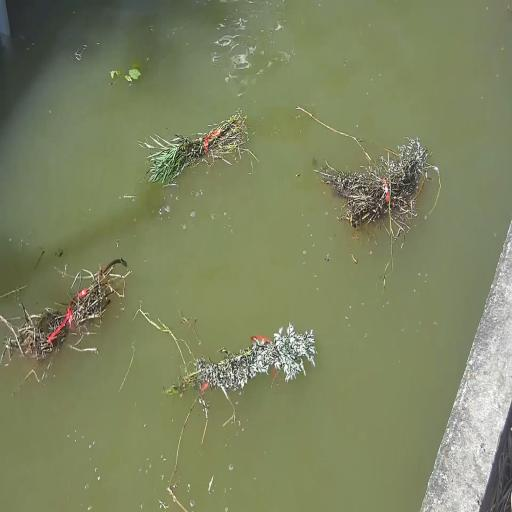twig: (12, 269, 122, 372), (172, 326, 314, 405), (335, 128, 430, 244), (156, 108, 254, 188), (110, 62, 140, 93)
